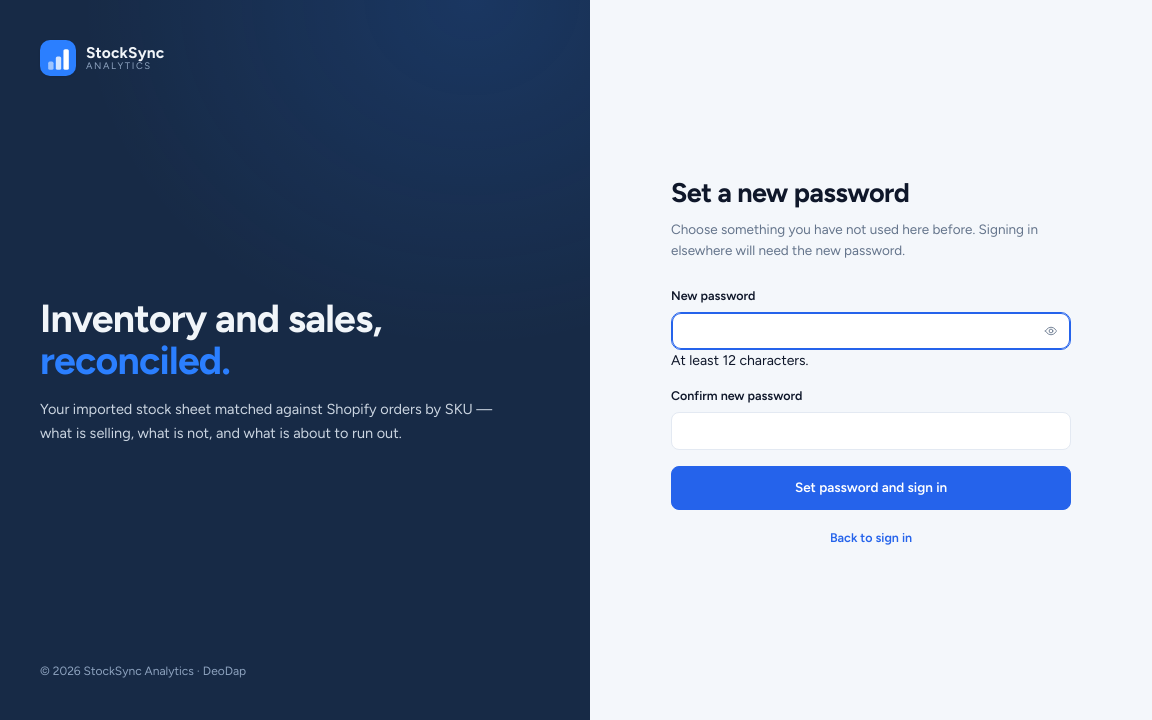
Scenario: Reset password › reports an expired link with the way to get a new one
Type "a-long-enough-password" into the password field labelled "New password". click: (871, 331)
box: [671,312,1071,350]
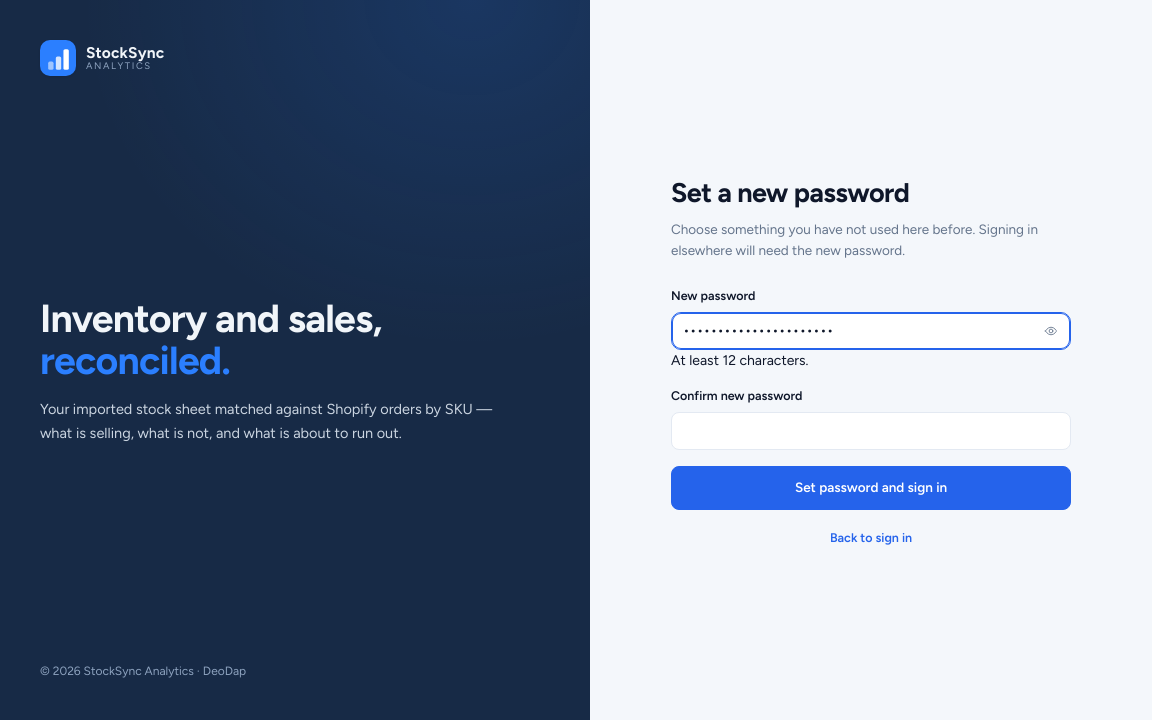
Type "a-long-enough-password" into the password field labelled "Confirm new password". click: (871, 430)
box: [671,412,1071,450]
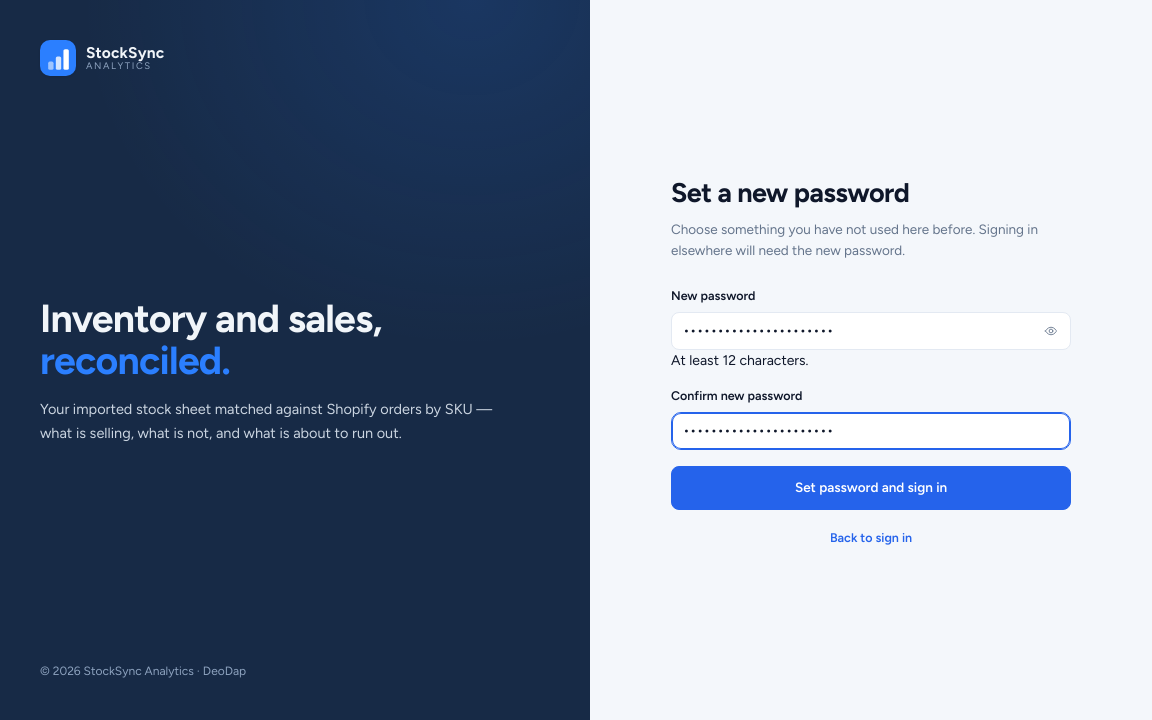
Click the button "Set password and sign in". click: (871, 488)
box: [671,466,1071,510]
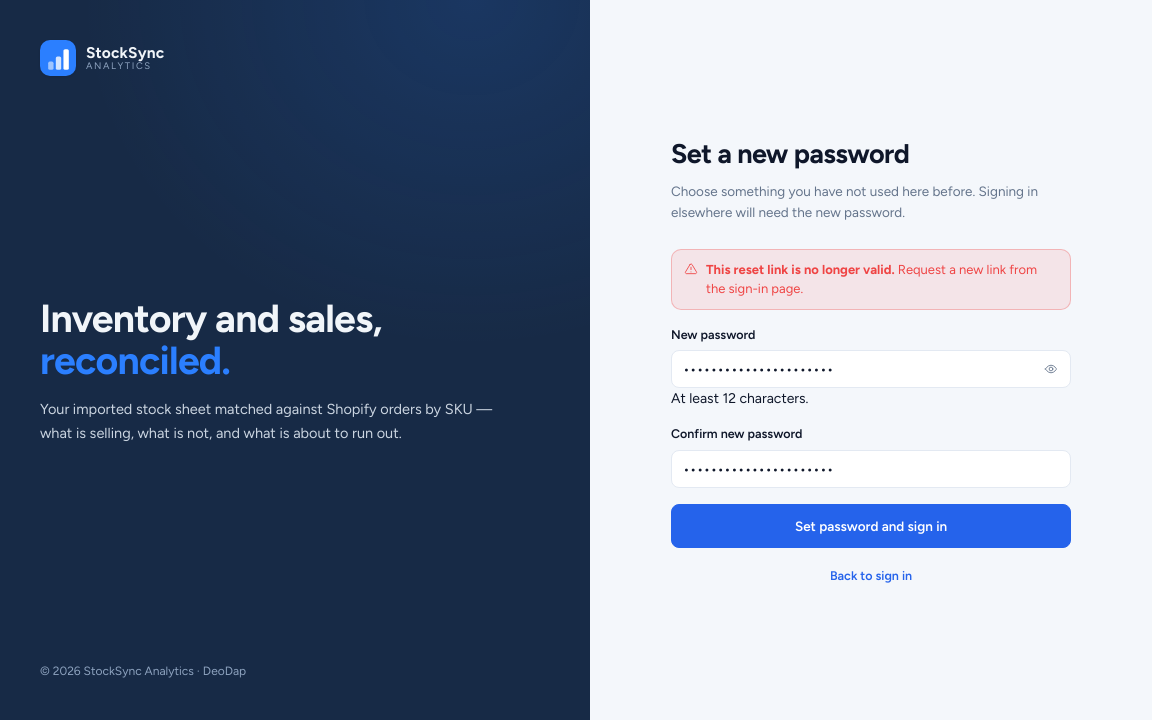
Expected: the text "This reset link is no longer valid." is shown, [706,262,895,276]
Expected: the text "Request a new link from the sign-in page" is shown, [706,262,1037,296]
